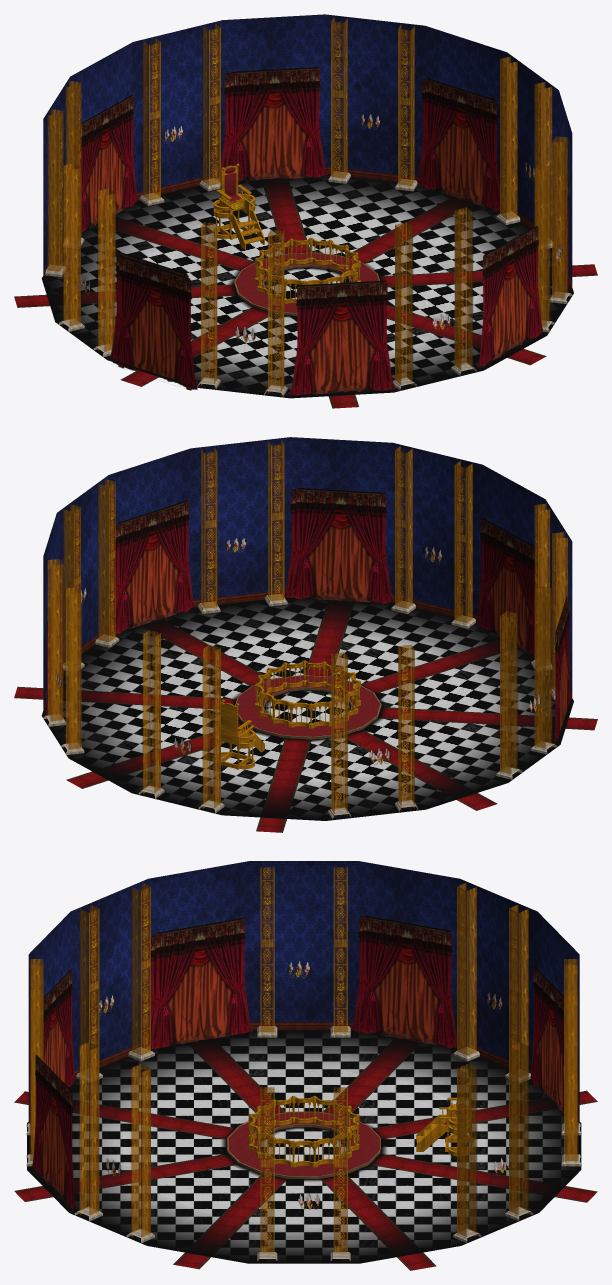
Rendered from trial.glb.
3 renders of one model, top to bottom at view 1: azimuth 30°, elevation 25°; view 2: azimuth 150°, elevation 25°; view 3: azimuth 270°, elevation 25°, orthographic. The views are drawn at different scales.
Parts seen in each view (by area): view 1: Object_3, Object_12, Object_4, Object_6, Object_2, Object_7, Object_10, Object_14, Object_9, Object_11, Object_15, Object_5 (+2 smaller); view 2: Object_6, Object_12, Object_4, Object_2, Object_3, Object_7, Object_10, Object_9, Object_14, Object_11, Object_15, Object_5 (+2 smaller); view 3: Object_6, Object_12, Object_4, Object_2, Object_3, Object_7, Object_9, Object_10, Object_14, Object_11, Object_15, Object_5 (+2 smaller).
Part boxes in pixels (bbox=[...]): Object_3: bbox=[74, 67, 569, 395]; Object_12: bbox=[43, 14, 572, 284]; Object_4: bbox=[47, 16, 568, 395]; Object_6: bbox=[80, 182, 551, 389]; Object_2: bbox=[41, 174, 573, 398]; Object_7: bbox=[14, 184, 597, 408]; Object_10: bbox=[213, 163, 360, 303]; Object_14: bbox=[45, 171, 572, 396]; Object_9: bbox=[224, 167, 378, 313]; Object_11: bbox=[213, 195, 360, 303]; Object_15: bbox=[43, 166, 572, 291]; Object_5: bbox=[80, 114, 562, 343]; Object_6: bbox=[64, 605, 536, 812]; Object_12: bbox=[43, 437, 572, 707]; Object_4: bbox=[47, 439, 568, 817]; Object_2: bbox=[41, 597, 573, 820]; Object_3: bbox=[46, 488, 570, 743]; Object_7: bbox=[14, 607, 597, 832]; Object_10: bbox=[214, 660, 360, 769]; Object_9: bbox=[236, 675, 379, 736]; Object_14: bbox=[43, 594, 556, 819]; Object_11: bbox=[213, 662, 360, 769]; Object_15: bbox=[43, 590, 572, 715]; Object_5: bbox=[56, 537, 540, 765]; Object_6: bbox=[72, 1038, 560, 1254]; Object_12: bbox=[28, 861, 579, 1115]; Object_4: bbox=[29, 867, 578, 1252]; Object_2: bbox=[27, 1030, 581, 1263]; Object_3: bbox=[32, 915, 564, 1210]; Object_7: bbox=[14, 1044, 597, 1270]; Object_9: bbox=[229, 1108, 467, 1175]; Object_10: bbox=[248, 1075, 473, 1167]; Object_14: bbox=[26, 1026, 581, 1260]; Object_11: bbox=[249, 1098, 470, 1167]; Object_15: bbox=[28, 1022, 579, 1122]; Object_5: bbox=[99, 961, 510, 1209].
Size of the model in its own units: 14.02 by 4.61 by 13.93.
Materials: 14 (14 with a texture image).
